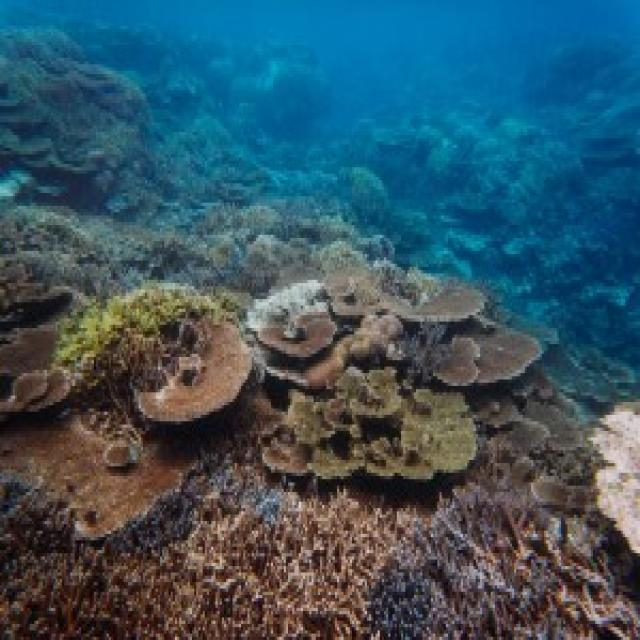Bleached: (594, 403, 639, 554)
Healthy: (1, 496, 394, 638), (372, 490, 639, 638), (246, 262, 543, 387), (266, 368, 477, 480), (54, 284, 238, 409), (1, 422, 195, 538), (472, 393, 600, 512), (138, 326, 253, 419)
